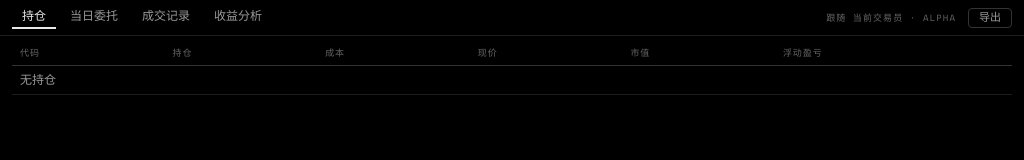
Test: 底部 Dock（01 §4.8） › 成交表：ORD 微标签分组（#7A1F · 限价买入 ×100 · PARTIAL 60/100）
Click the tab "成交记录": [166, 18] box [132,6,200,29]
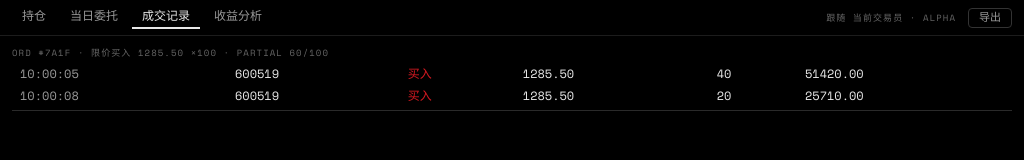
Expected: the element with test id "dock-trades" is shown, [12,40,1012,111]
Expected: the text "ORD #7A1F · 限价买入 1285.50 ×100 · PARTIAL 60/100" is shown, [12,46,329,59]
